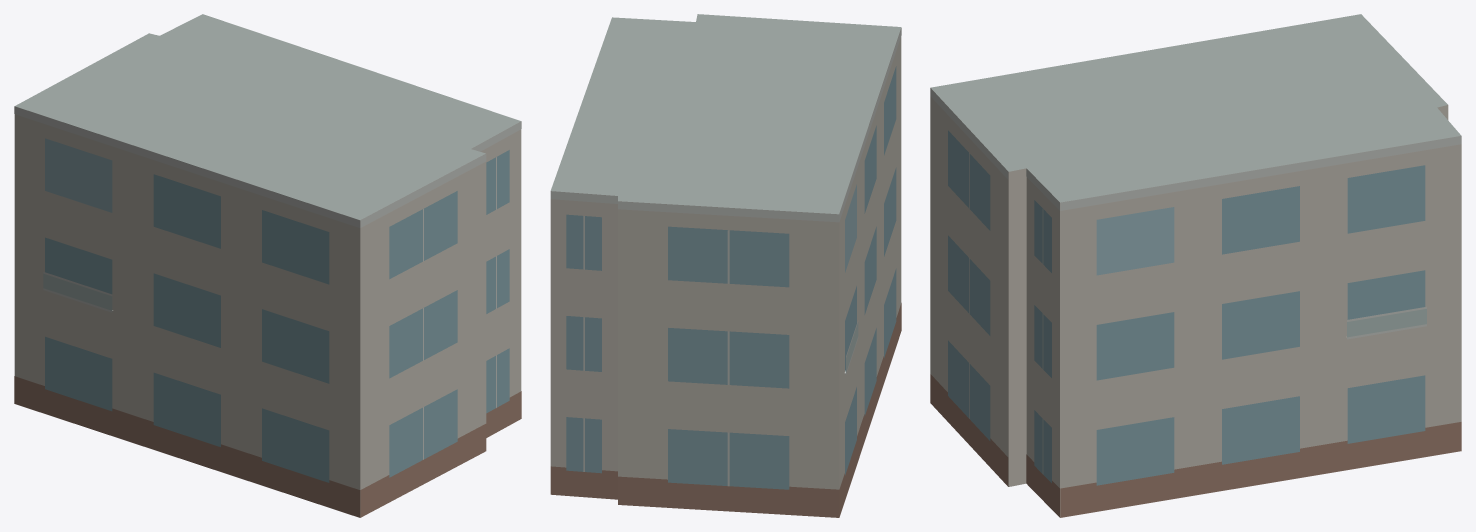
File: survey-upis-32714239.glb
The picture shows the model from 3 angles, left to right: view 1: azimuth 30°, elevation 25°; view 2: azimuth 150°, elevation 25°; view 3: azimuth 270°, elevation 25°; orthographic projection. The views are drawn at different scales.
Visible parts, largest first — view 1: survey-upis-32714239.tmp; view 2: survey-upis-32714239.tmp; view 3: survey-upis-32714239.tmp.
Part boxes in pixels (x1=…): survey-upis-32714239.tmp: x1=14, y1=14, x2=521, y2=517; survey-upis-32714239.tmp: x1=550, y1=14, x2=901, y2=517; survey-upis-32714239.tmp: x1=930, y1=14, x2=1461, y2=517.
Size of the model in its own units: 11.75 by 9.15 by 13.98.
